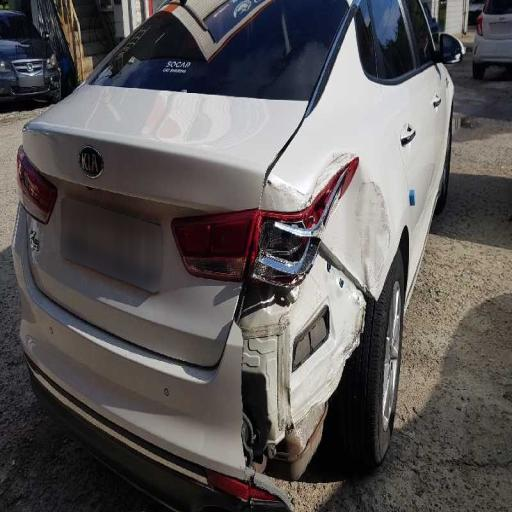broken: (203, 136, 421, 476)
